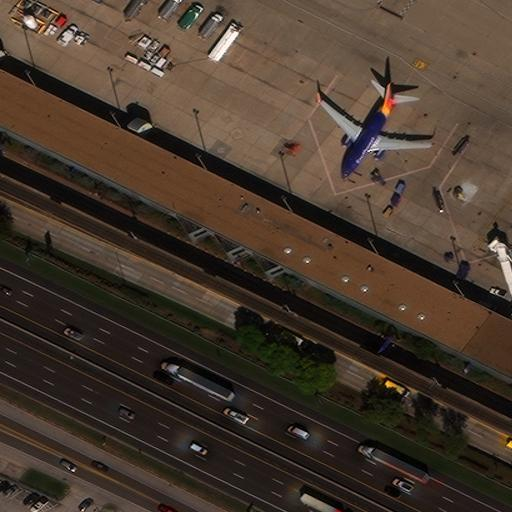Medium Civil Transport: (315, 84, 431, 176)
